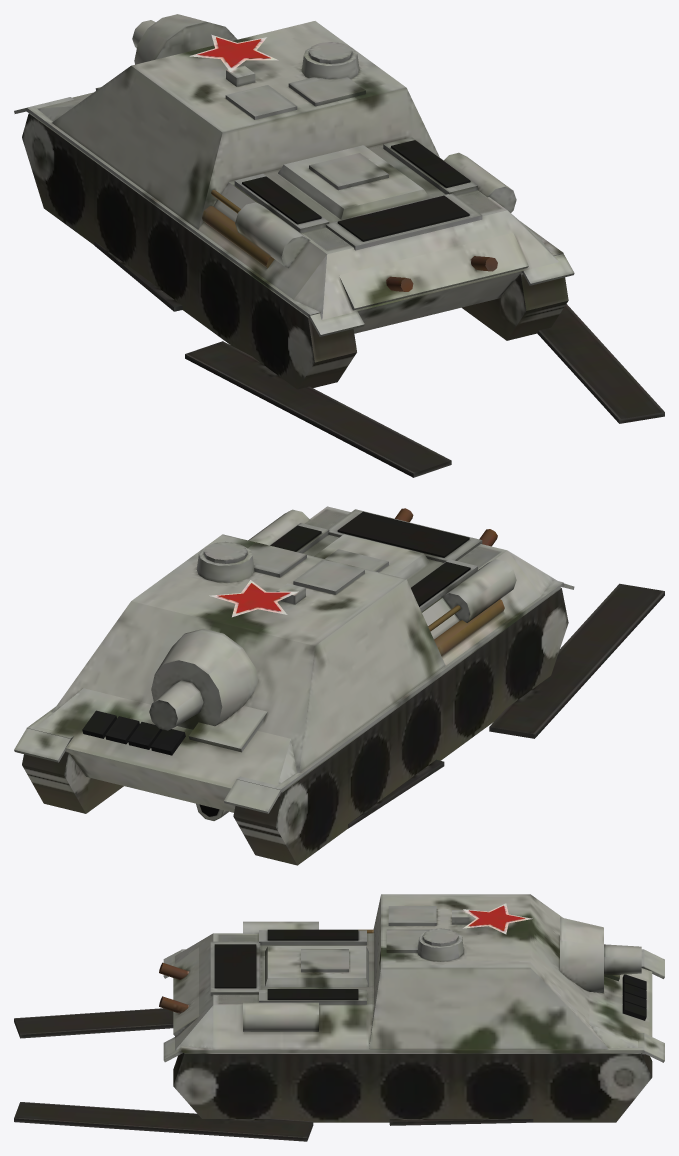
The model's file is su122_winter.glb.
The picture shows the model from 3 angles, top to bottom: view 1: azimuth 30°, elevation 25°; view 2: azimuth 150°, elevation 25°; view 3: azimuth 270°, elevation 25°; orthographic projection. The views are drawn at different scales.
Parts seen in each view (by area): view 1: hull_ok, hull_trackL, hull_trackR; view 2: hull_ok, hull_trackL; view 3: hull_ok, hull_trackR, hull_trackL.
Part boxes in pixels (x1,y1,x2,y2): hull_ok: (14, 14, 574, 389); hull_trackL: (94, 241, 451, 477); hull_trackR: (537, 304, 664, 423); hull_ok: (14, 506, 574, 865); hull_trackL: (348, 583, 664, 828); hull_ok: (159, 894, 664, 1122); hull_trackR: (14, 1102, 533, 1141); hull_trackL: (14, 1008, 173, 1038).
Size of the model in its own units: 4.14 by 2.58 by 8.16.
12 materials, 12 textured.
